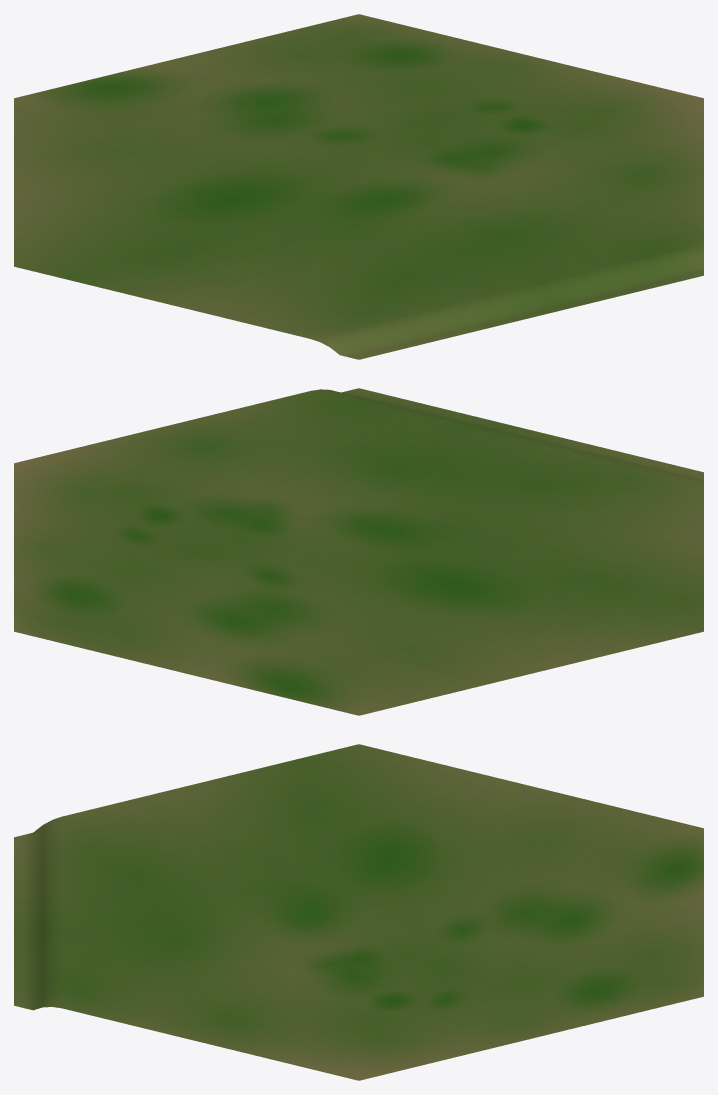
The model's file is River1A.glb.
3 renders of one model, top to bottom at view 1: azimuth 30°, elevation 25°; view 2: azimuth 150°, elevation 25°; view 3: azimuth 270°, elevation 25°, orthographic.
Visible parts, largest first — view 1: Circle; view 2: Circle; view 3: Circle.
Boxes of the visible parts, <box> form: Circle: <box>14,14,703,359</box>; Circle: <box>14,388,703,715</box>; Circle: <box>14,744,703,1080</box>.
Size of the model in its own units: 400 by 5 by 346.
1 material, 1 textured.
